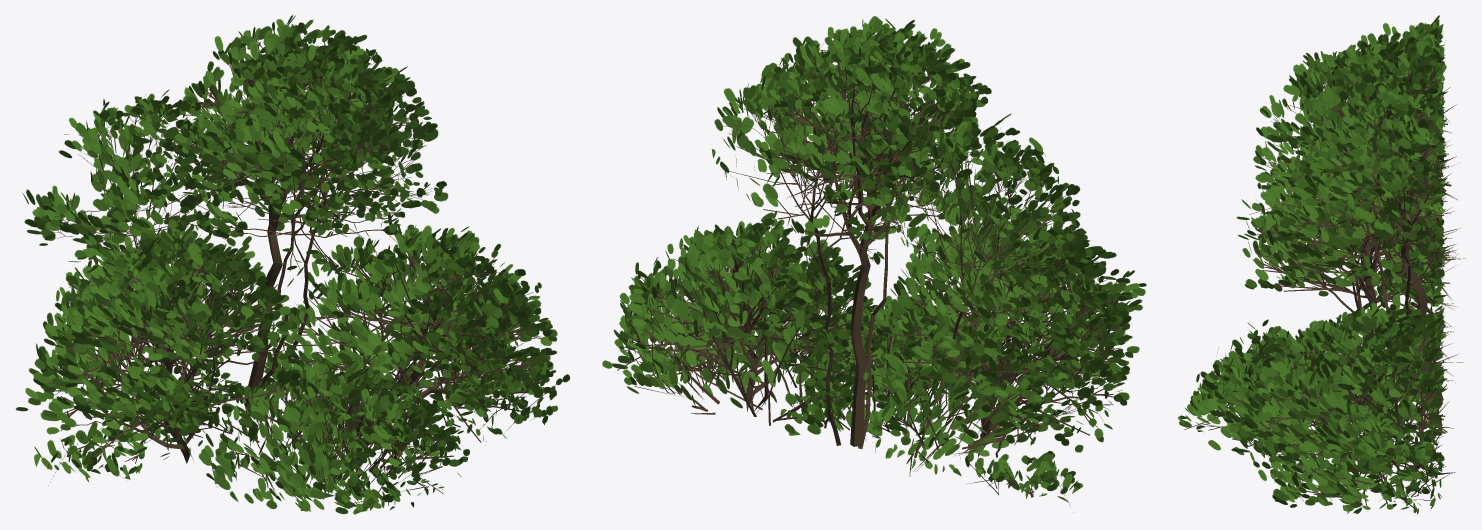
The picture shows the model from 3 angles, left to right: view 1: azimuth 30°, elevation 25°; view 2: azimuth 150°, elevation 25°; view 3: azimuth 270°, elevation 25°; orthographic projection. The views are drawn at different scales.
Parts seen in each view (by area): view 1: oak 01.001_trunk_Mat.001_0.291; view 2: oak 01.001_trunk_Mat.001_0.291; view 3: oak 01.001_trunk_Mat.001_0.291.
Boxes of the visible parts, left/top/right/bottom form: oak 01.001_trunk_Mat.001_0.291: left=15, top=15, right=569, bottom=514; oak 01.001_trunk_Mat.001_0.291: left=602, top=16, right=1146, bottom=505; oak 01.001_trunk_Mat.001_0.291: left=1177, top=15, right=1464, bottom=514.
Size of the model in its own units: 5.16 by 4.13 by 2.77.
Materials: 2 (1 with a texture image).
